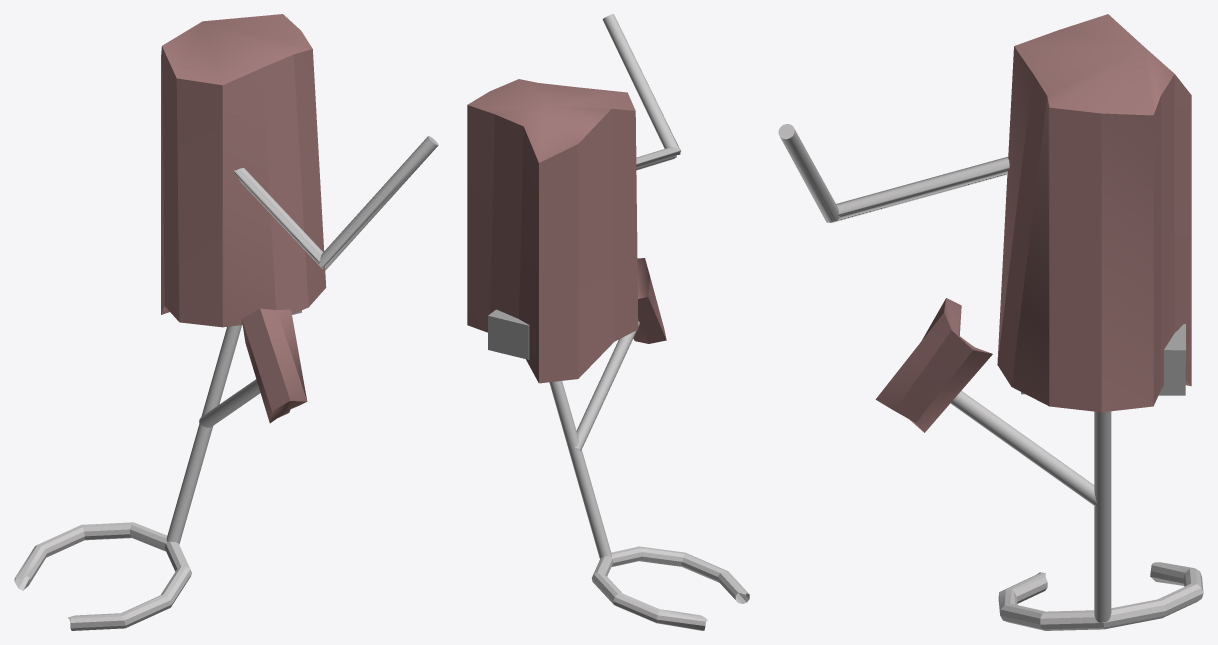
Rendered from debris4.fbx.
3 renders of one model, left to right at view 1: azimuth 30°, elevation 25°; view 2: azimuth 150°, elevation 25°; view 3: azimuth 270°, elevation 25°, orthographic. The views are drawn at different scales.
Parts seen in each view (by area): view 1: debris1; view 2: debris1; view 3: debris1.
Boxes of the visible parts, <box> form: debris1: <box>14,14,438,630</box>; debris1: <box>467,14,749,630</box>; debris1: <box>778,14,1203,630</box>.
Size of what is drawn, in the model's own units: 447 by 832 by 497.
